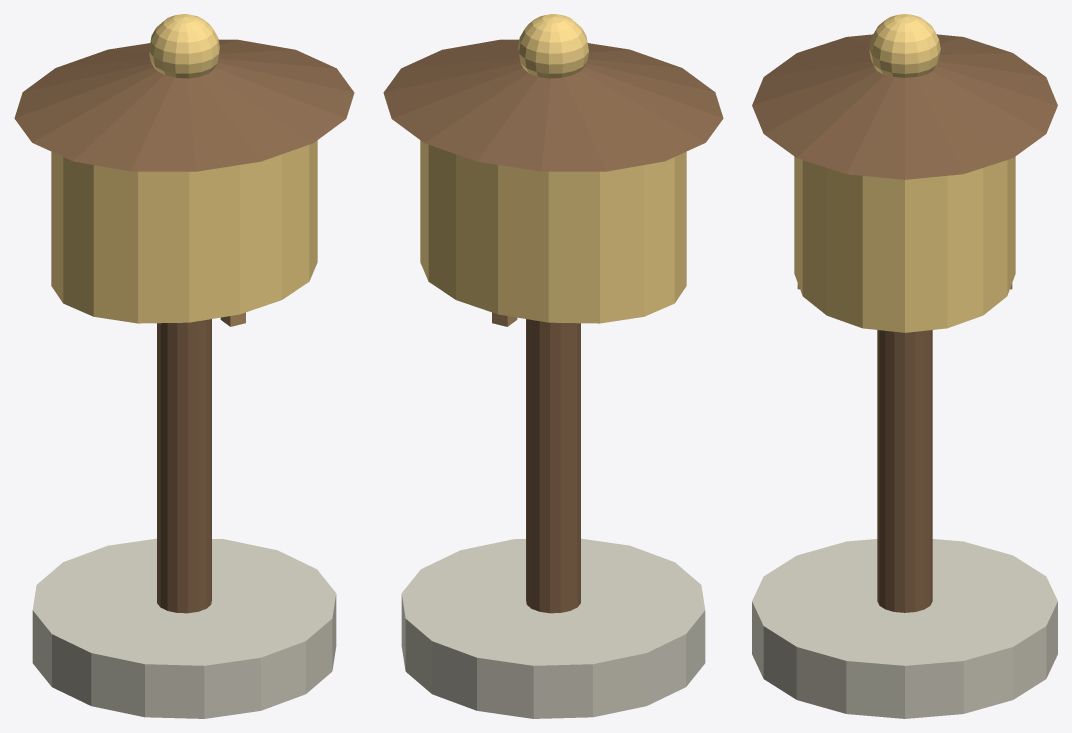
Rendered from Lantern.fbx.
3 views of the same model, side by side, from view 1: azimuth 30°, elevation 25°; view 2: azimuth 150°, elevation 25°; view 3: azimuth 270°, elevation 25° (orthographic).
Parts seen in each view (by area): view 1: Stone footing, Lamp body, Lamp cap, Timber post, Lamp finial; view 2: Stone footing, Lamp body, Lamp cap, Timber post, Lamp finial; view 3: Stone footing, Lamp body, Lamp cap, Timber post, Lamp finial.
Part boxes in pixels (left/top/right/bottom): Stone footing: left=32, top=538, right=336, bottom=718; Lamp body: left=51, top=140, right=317, bottom=323; Lamp cap: left=14, top=39, right=354, bottom=171; Timber post: left=157, top=319, right=211, bottom=613; Lamp finial: left=149, top=14, right=219, bottom=78; Stone footing: left=401, top=538, right=705, bottom=718; Lamp body: left=420, top=140, right=686, bottom=323; Lamp cap: left=383, top=39, right=723, bottom=171; Timber post: left=526, top=319, right=580, bottom=613; Lamp finial: left=518, top=14, right=588, bottom=78; Stone footing: left=752, top=539, right=1057, bottom=718; Lamp body: left=794, top=156, right=1015, bottom=332; Lamp cap: left=752, top=34, right=1057, bottom=179; Timber post: left=877, top=330, right=932, bottom=612; Lamp finial: left=869, top=14, right=940, bottom=77.
Bounding box in the file's own units: 108 × 216 × 94.
